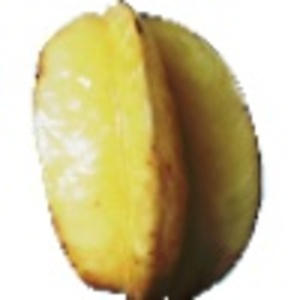carambola: (30, 1, 267, 300)
